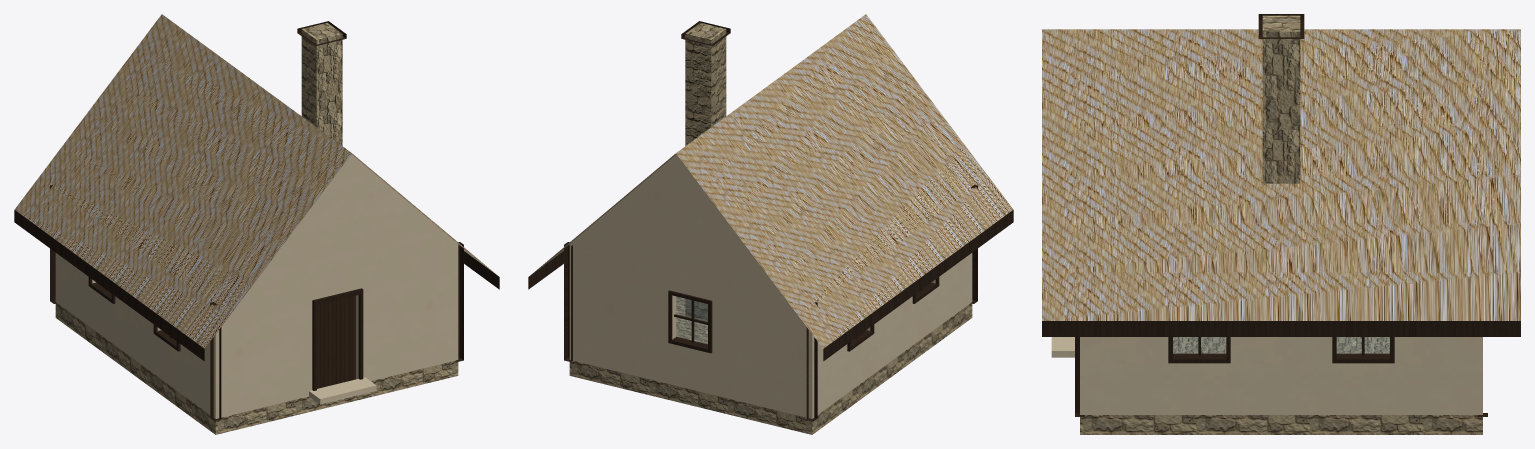
The model's file is forest_cottage_01.glb.
3 renders of one model, left to right at view 1: azimuth 30°, elevation 25°; view 2: azimuth 150°, elevation 25°; view 3: azimuth 270°, elevation 25°, orthographic. The views are drawn at different scales.
Visible parts, largest first — view 1: forest_cottage_01; view 2: forest_cottage_01; view 3: forest_cottage_01.
Part boxes in pixels (bbox=[...]): forest_cottage_01: bbox=[14, 14, 499, 434]; forest_cottage_01: bbox=[528, 14, 1013, 434]; forest_cottage_01: bbox=[1042, 14, 1520, 434].
Bounding box in the file's own units: 6.8 × 6.6 × 7.6.
Materials: 6 (5 with a texture image).
